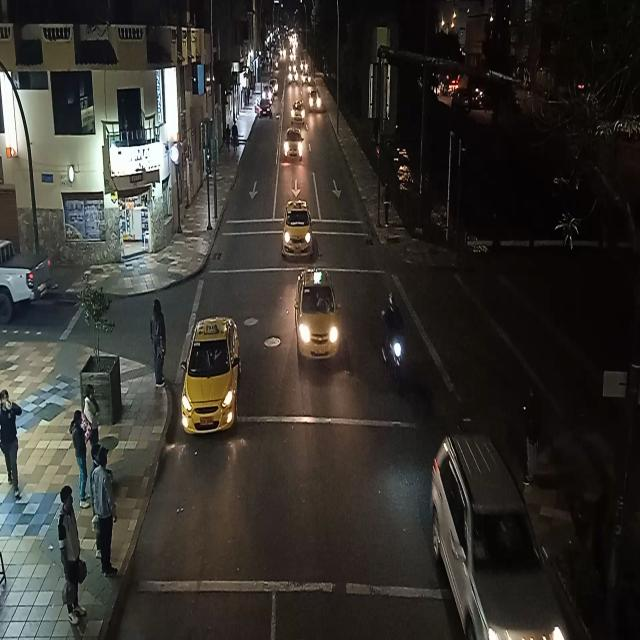CMT: (0, 237, 49, 317)
SED: (182, 318, 242, 433), (299, 272, 341, 361), (282, 201, 312, 257)
SUV: (431, 428, 562, 636), (284, 128, 303, 160)
